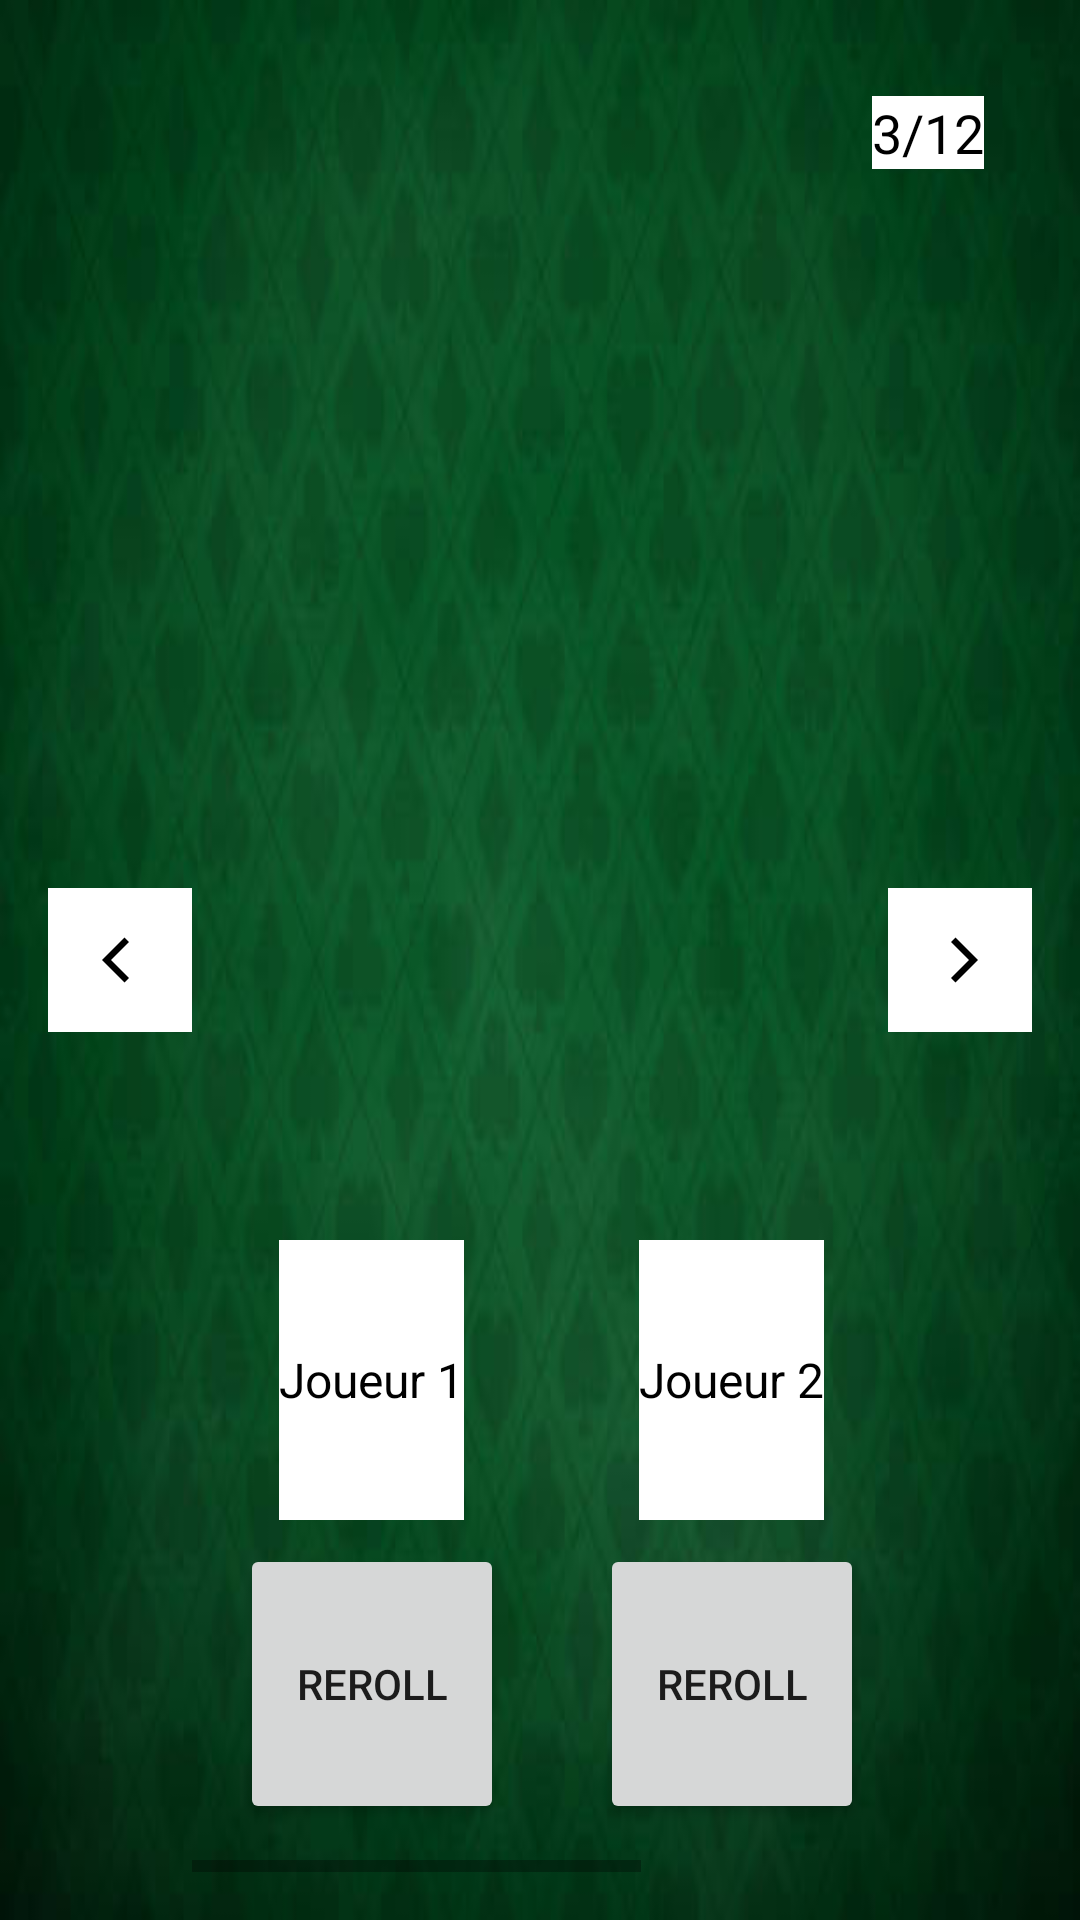

Icon bounding boxes for this 1080*1920 phone screenshot, format bbox(x1, y1, x2, y2):
Flèche droite: bbox(888, 888, 1032, 1032)
Flèche gauche: bbox(48, 888, 192, 1032)
